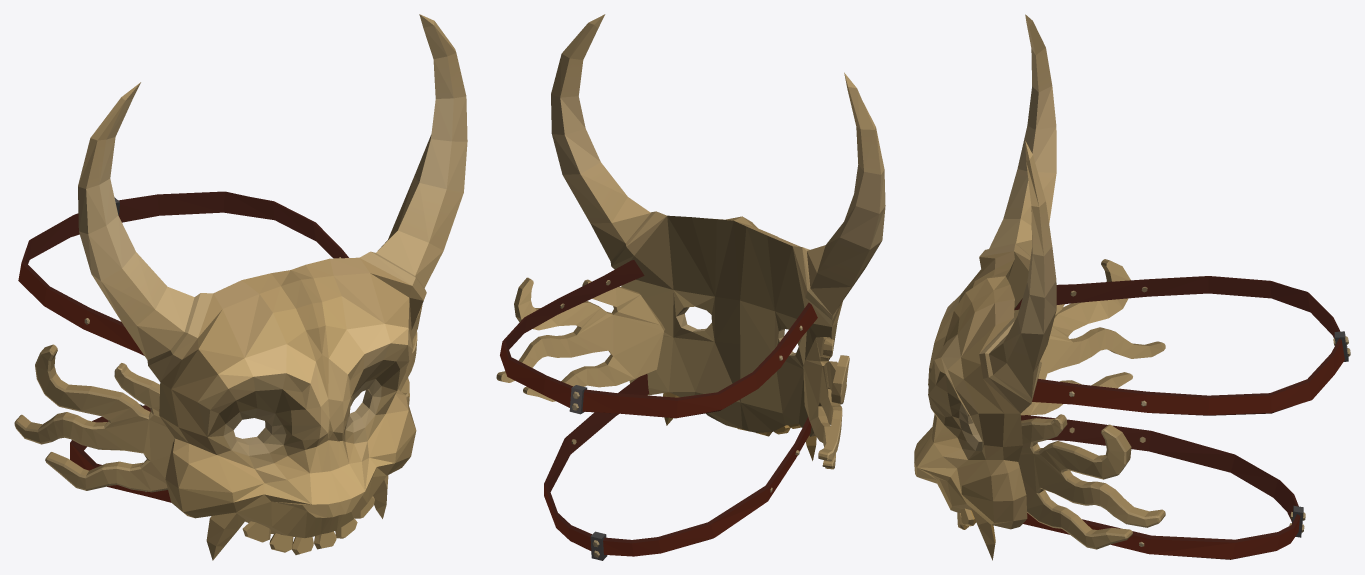
Rendered from demonHeadwear.glb.
The picture shows the model from 3 angles, left to right: view 1: azimuth 30°, elevation 25°; view 2: azimuth 150°, elevation 25°; view 3: azimuth 270°, elevation 25°; orthographic projection. The views are drawn at different scales.
Parts seen in each view (by area): view 1: demonFacewear; view 2: demonFacewear; view 3: demonFacewear.
Boxes of the visible parts, x1,y1,x2,y2 form: demonFacewear: [14, 14, 467, 560]; demonFacewear: [496, 14, 885, 560]; demonFacewear: [914, 14, 1350, 560].
Bounding box in the file's own units: 0.3262 × 0.3984 × 0.3444.
